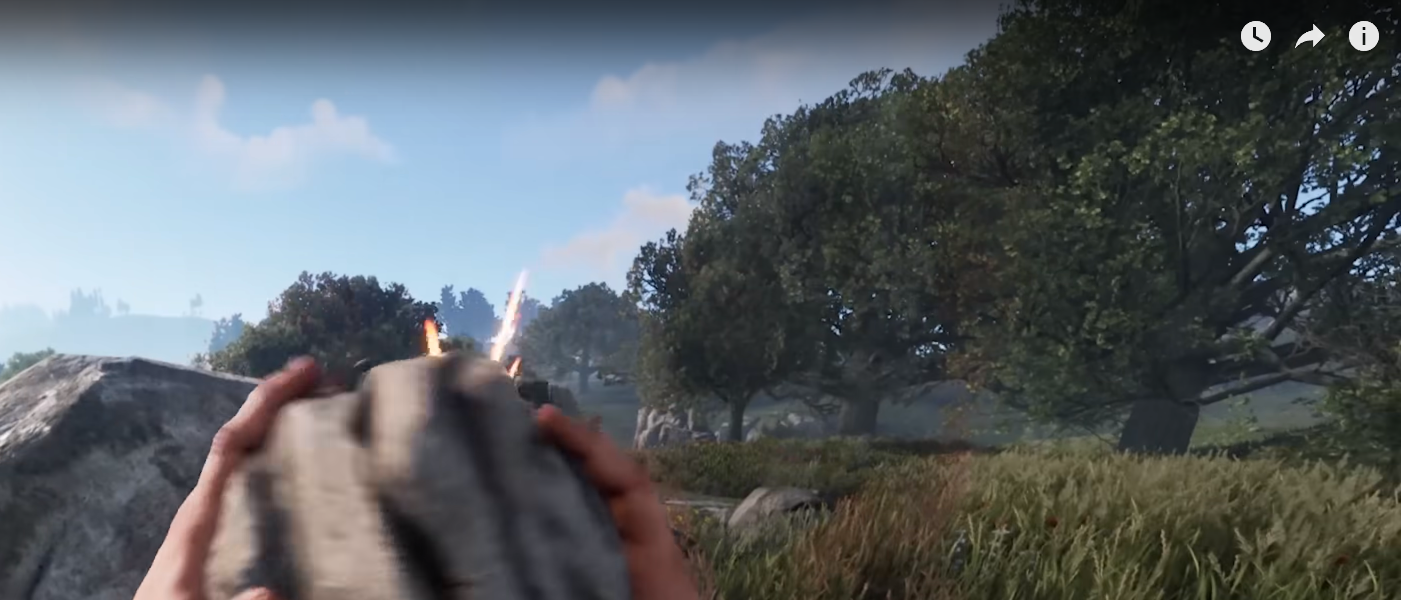tree: (1086, 5, 1284, 477), (830, 212, 1016, 459), (677, 265, 758, 452), (1143, 253, 1194, 458), (835, 303, 883, 459), (723, 373, 755, 455)
